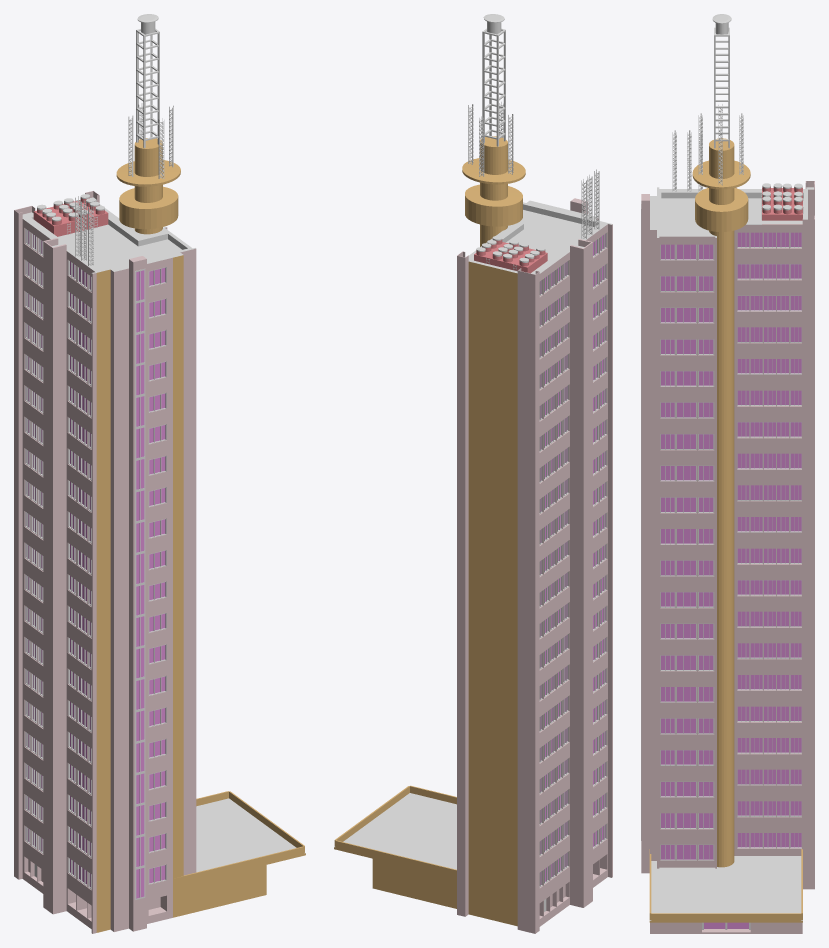
The model's file is H_Building3_Fixed.fbx.
3 renders of one model, left to right at view 1: azimuth 30°, elevation 25°; view 2: azimuth 150°, elevation 25°; view 3: azimuth 270°, elevation 25°, orthographic.
Visible parts, largest first — view 1: skyscraper6; view 2: skyscraper6; view 3: skyscraper6.
Boxes of the visible parts, x1,y1,x2,y2 form: skyscraper6: (14,14,305,933); skyscraper6: (334,14,612,933); skyscraper6: (641,14,814,933).
Size of the model in its own units: 1815 by 6889 by 1240.
